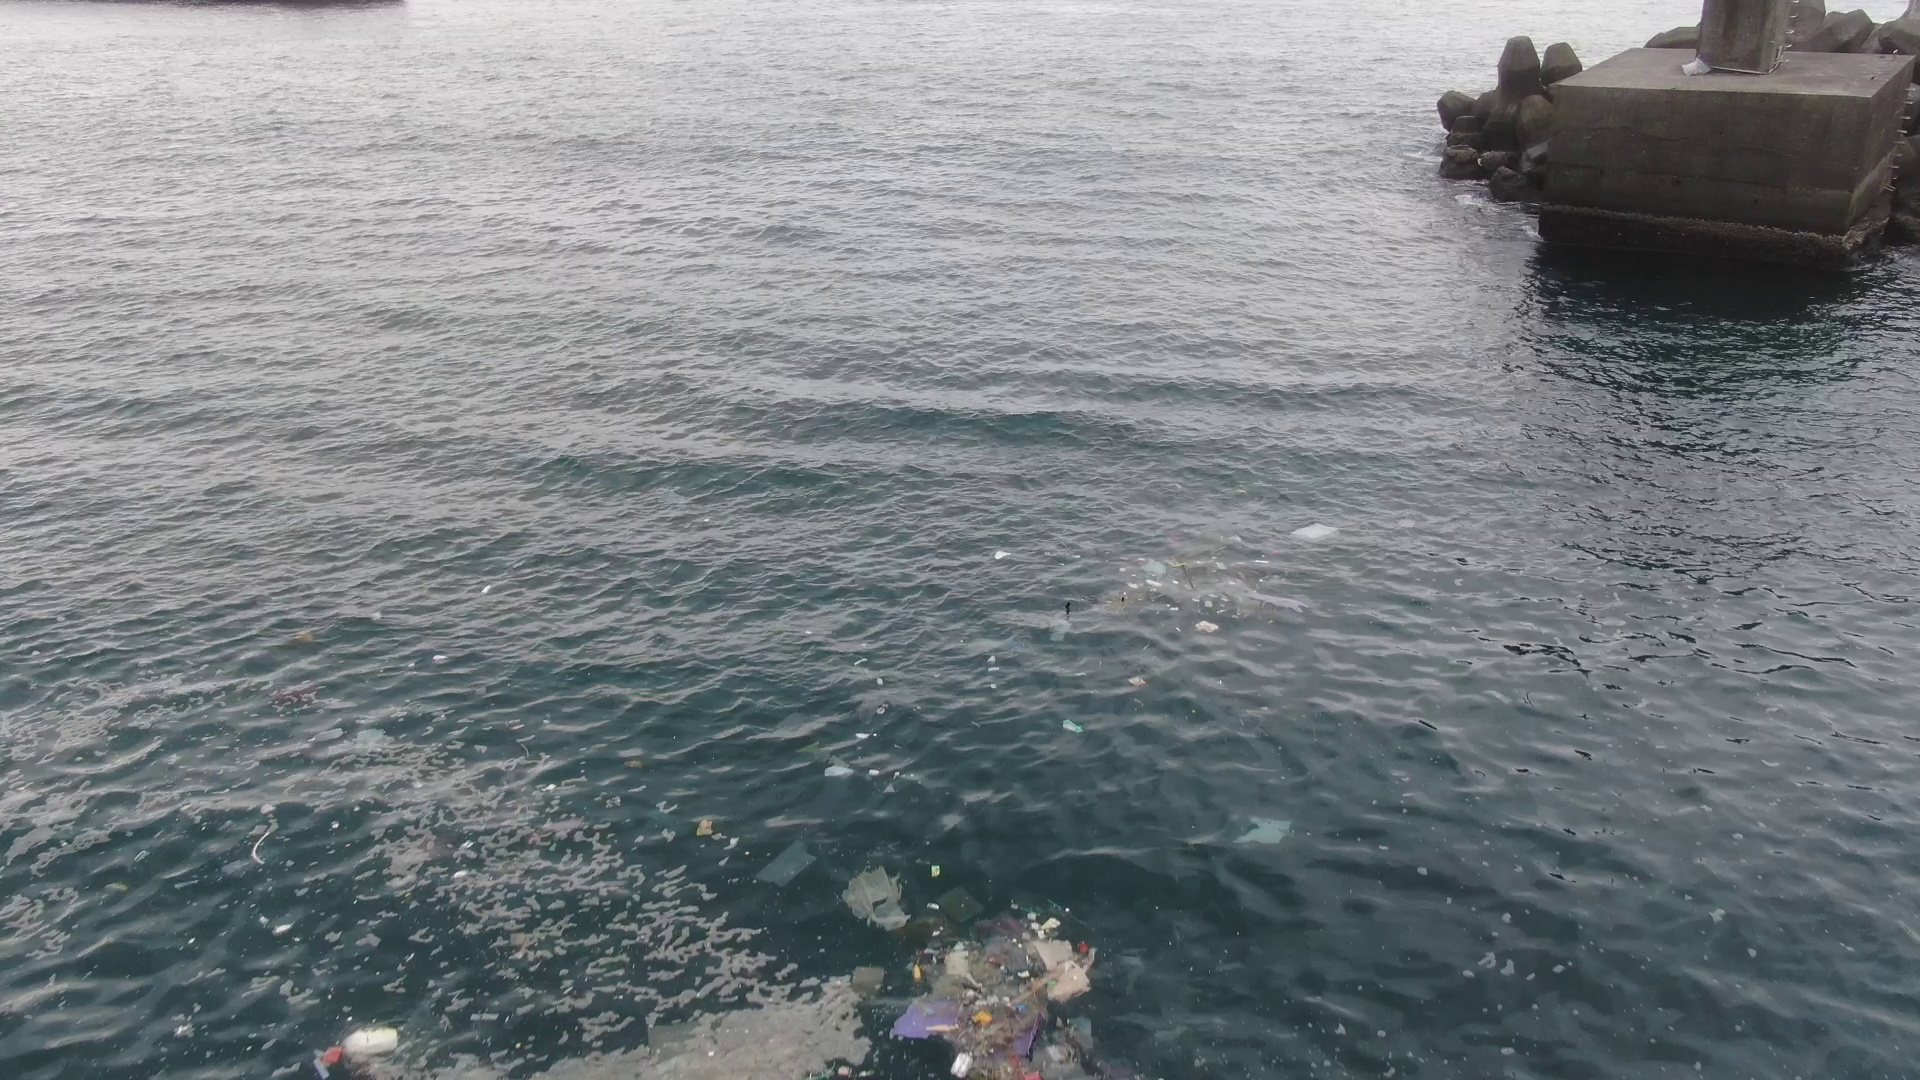garbage: (853, 861, 1105, 1079), (1109, 524, 1309, 632), (762, 835, 814, 887), (798, 740, 855, 775), (1245, 818, 1294, 849), (1060, 717, 1084, 736), (313, 728, 347, 738), (359, 728, 385, 741), (1130, 675, 1146, 687), (996, 549, 1010, 560), (433, 654, 448, 662), (483, 583, 491, 593)
